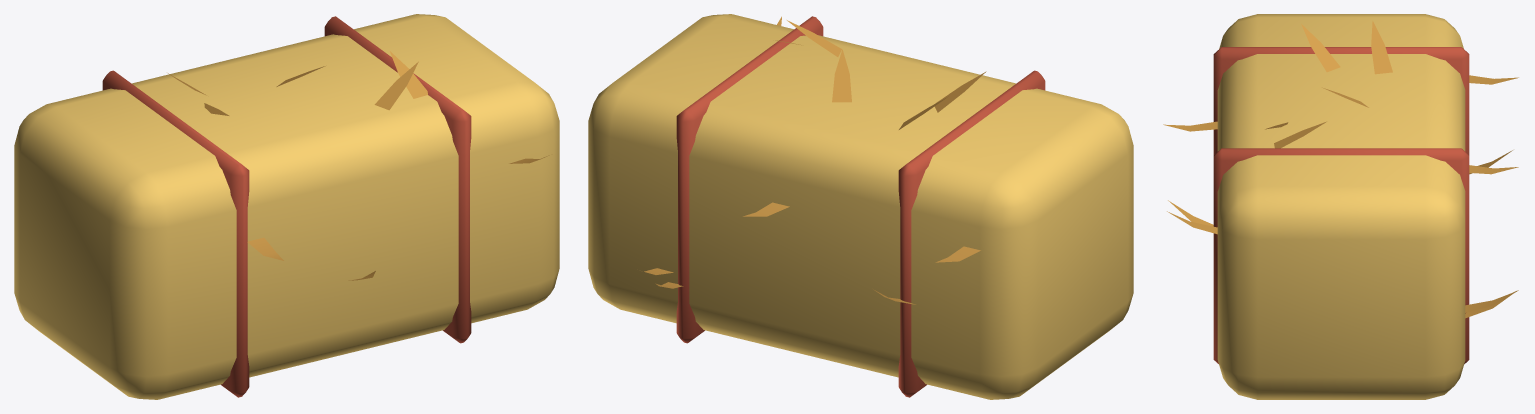
The model's file is hay_bale.glb.
3 views of the same model, side by side, from view 1: azimuth 30°, elevation 25°; view 2: azimuth 150°, elevation 25°; view 3: azimuth 270°, elevation 25° (orthographic). The views are drawn at different scales.
Visible parts, largest first — view 1: hay_bale; view 2: hay_bale; view 3: hay_bale.
Boxes of the visible parts, box(x1,y1,x2,y2) form: hay_bale: box(14, 14, 559, 399); hay_bale: box(588, 14, 1133, 399); hay_bale: box(1163, 14, 1518, 399).
Bounding box in the file's own units: 1.2 × 0.6834 × 0.8968.
